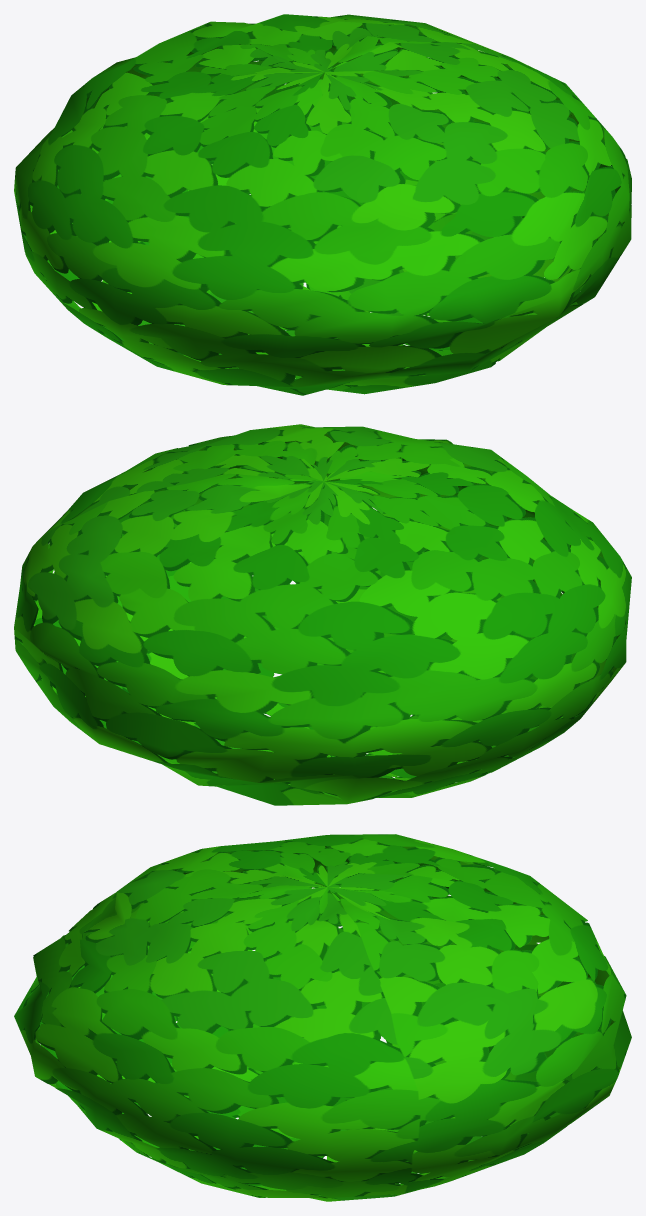
The model's file is bush_.fbx.
3 views of the same model, one above another, from view 1: azimuth 30°, elevation 25°; view 2: azimuth 150°, elevation 25°; view 3: azimuth 270°, elevation 25° (orthographic). The views are drawn at different scales.
Visible parts, largest first — view 1: bush_; view 2: bush_; view 3: bush_.
Part boxes in pixels (<box>): bush_: <box>14,14,631,395</box>; bush_: <box>14,424,631,805</box>; bush_: <box>14,834,631,1201</box>.
Size of the model in its own units: 0.6113 by 0.297 by 0.6232.
